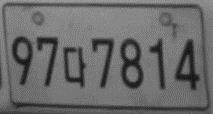1: (148, 37, 168, 90)
4: (173, 37, 201, 91)
7: (35, 36, 59, 87), (90, 37, 113, 89)
8: (118, 37, 144, 88)
9: (10, 34, 33, 86)
다: (61, 46, 87, 89)
